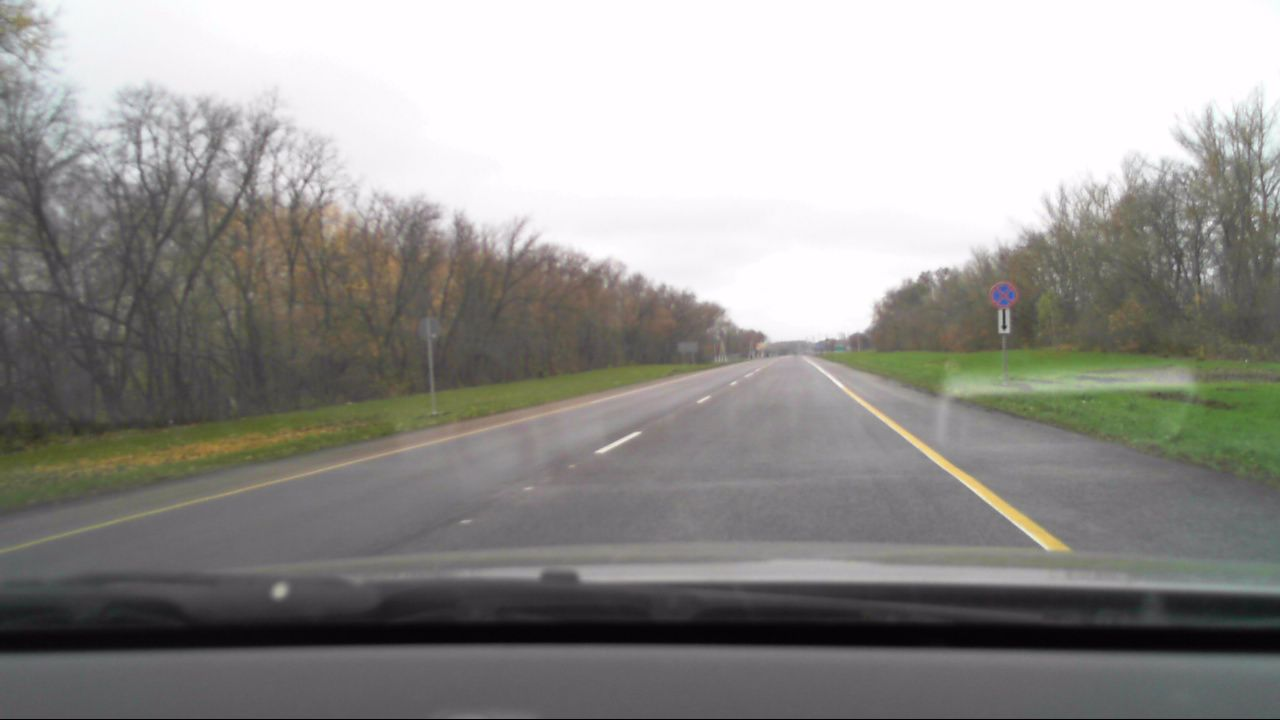No Parking: (989, 281, 1020, 308)
